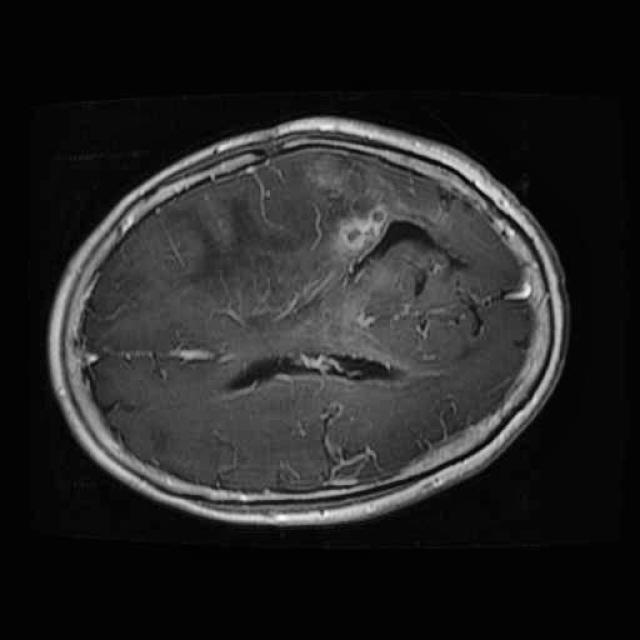Non-Tumor: (315, 189, 472, 341)
